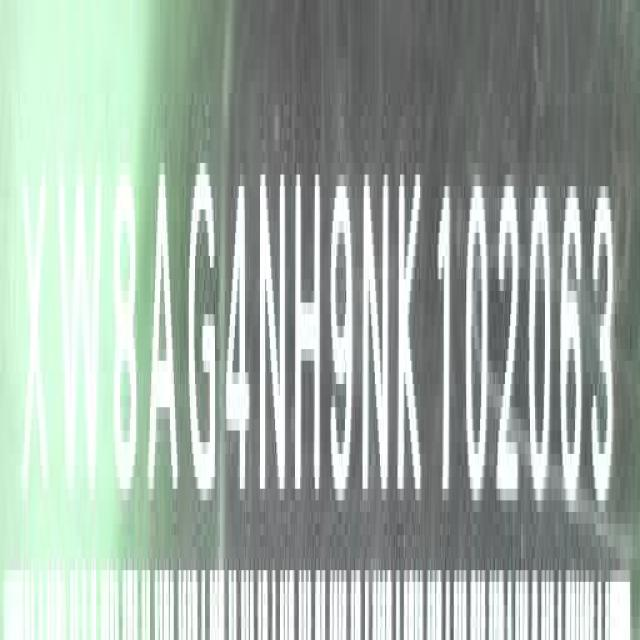0: (462, 166, 488, 514), (528, 178, 552, 512)
1: (432, 165, 456, 513)
2: (499, 174, 525, 516)
3: (593, 188, 621, 516)
4: (224, 155, 252, 512)
6: (558, 177, 583, 513)
8: (113, 167, 140, 506)
9: (328, 166, 354, 513)
A: (147, 160, 179, 510)
G: (186, 155, 220, 526)
H: (296, 162, 324, 512)
K: (396, 164, 425, 504)
N: (259, 165, 288, 511), (365, 160, 393, 514)
W: (58, 155, 104, 510)
X: (18, 160, 50, 512)
